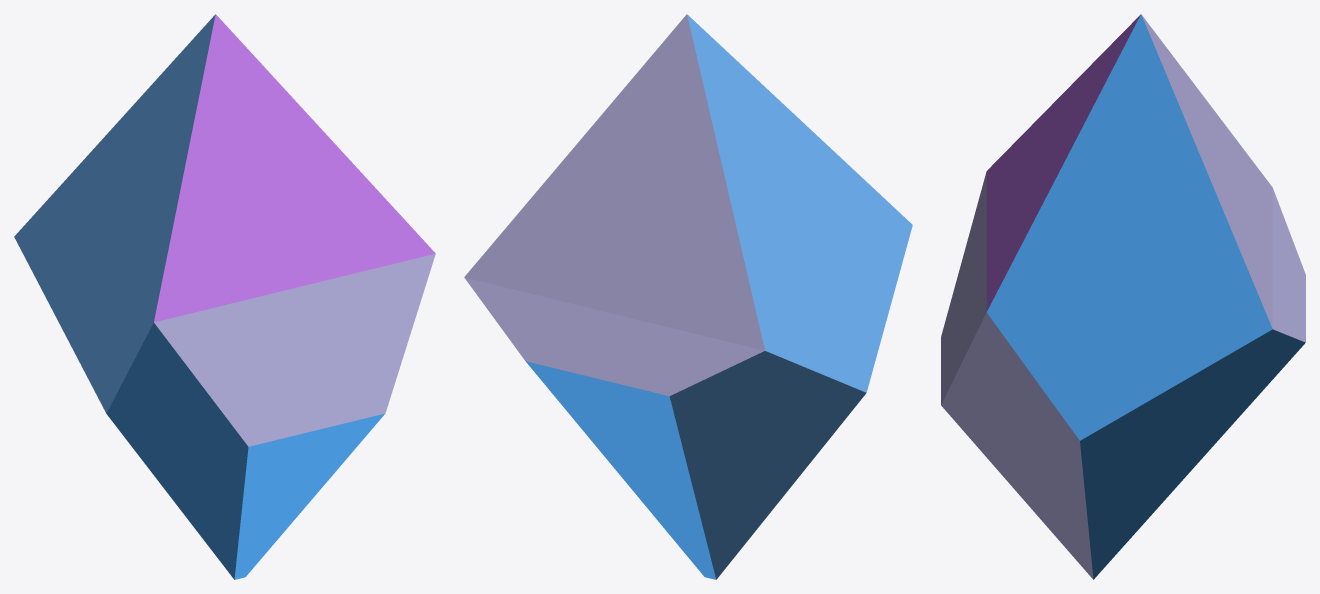
The model's file is IceBlock2.fbx.
3 renders of one model, left to right at view 1: azimuth 30°, elevation 25°; view 2: azimuth 150°, elevation 25°; view 3: azimuth 270°, elevation 25°, orthographic. The views are drawn at different scales.
Parts seen in each view (by area): view 1: Cube; view 2: Cube; view 3: Cube.
Boxes of the visible parts, x1,y1,x2,y2 form: Cube: [14, 14, 435, 579]; Cube: [464, 14, 912, 579]; Cube: [941, 14, 1305, 579].
Bounding box in the file's own units: 139 × 255 × 150.
